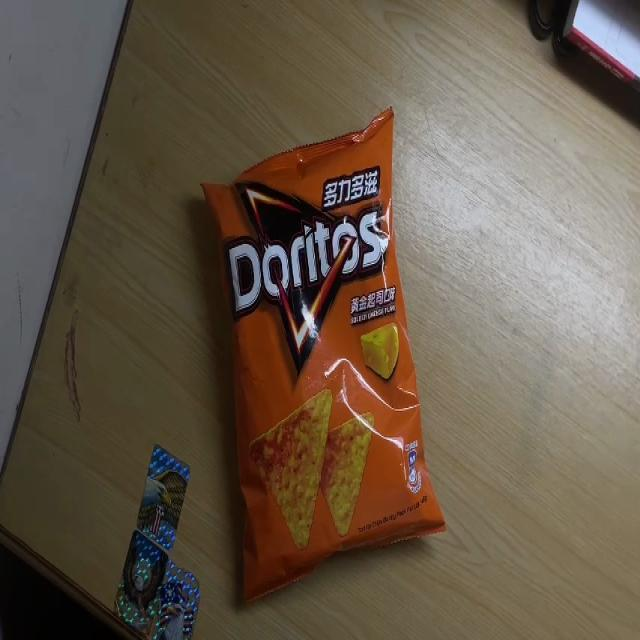Doritos: (199, 106, 446, 608)
